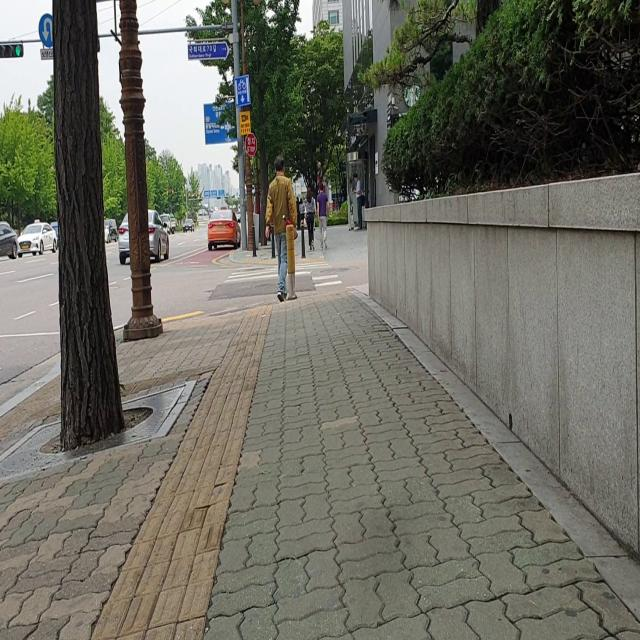횡단보도: (224, 260, 344, 288)
